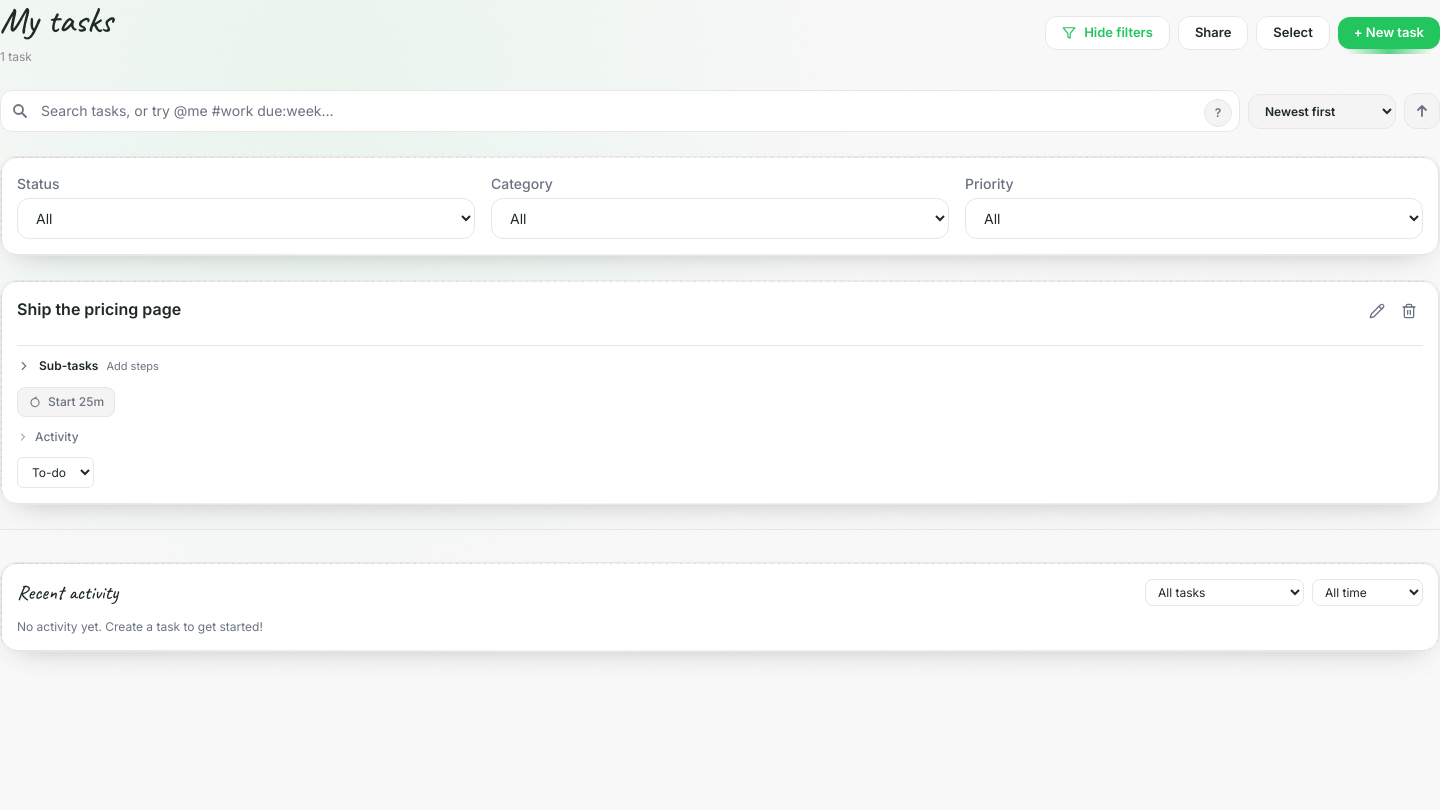
TaskList — Step 9 restyle regression net › toggles select mode and shows the bulk action bar when a row is picked
Step 1. Click the button "Select" → (1293, 33), box [1256,16,1330,50]
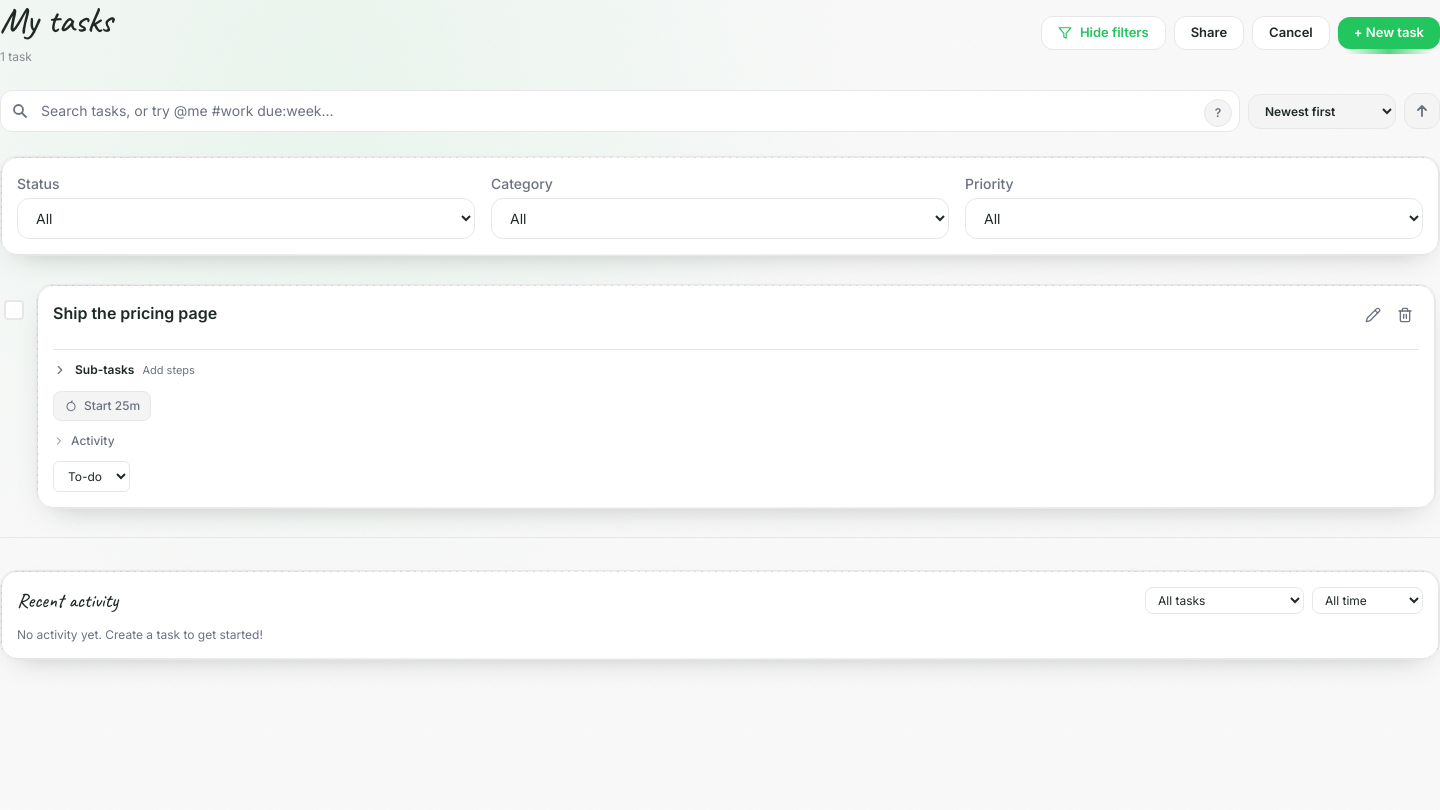
Step 2. Click the checkbox → (720, 396), box [0,280,1439,512]
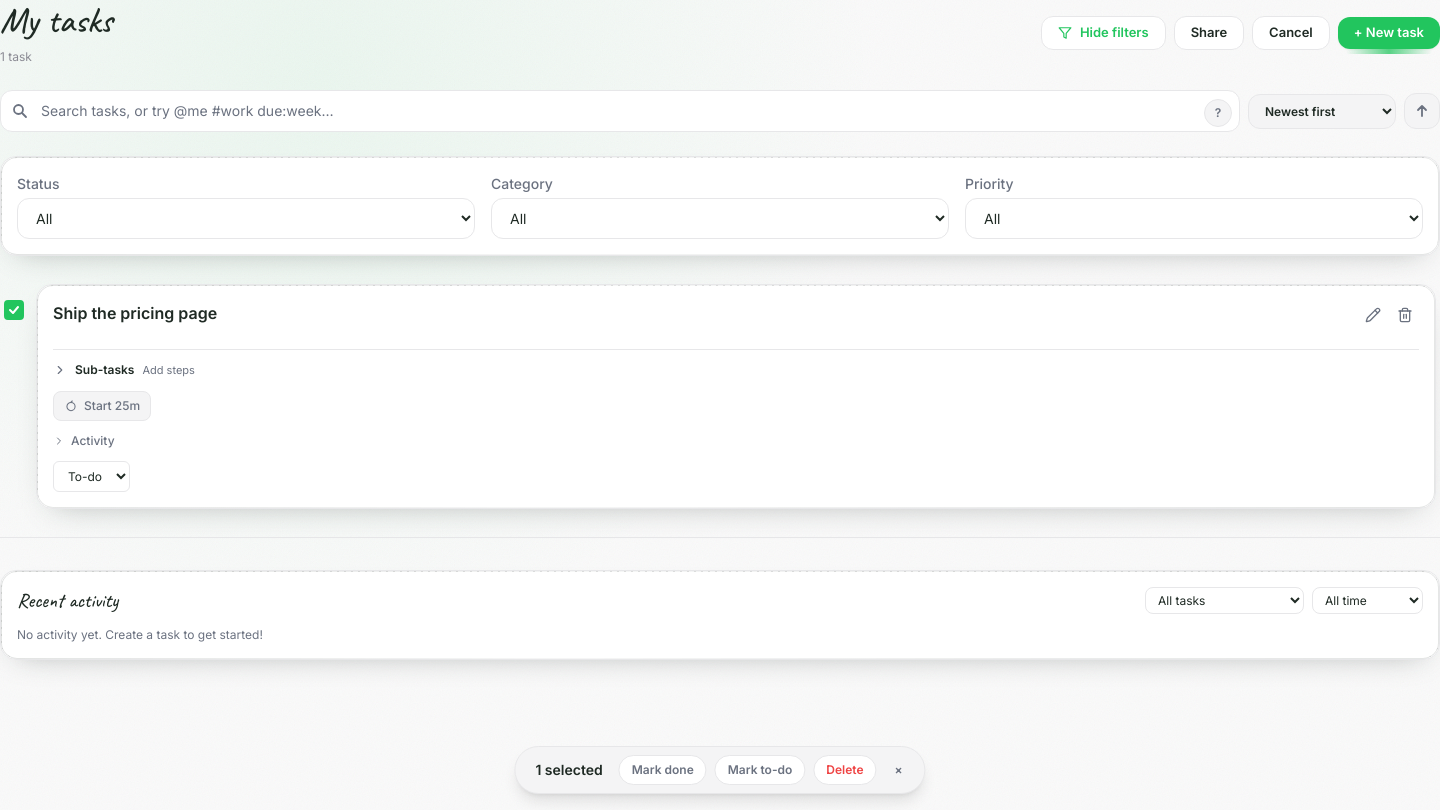
Expected: the text "1 selected" is shown, [535,761,603,778]
